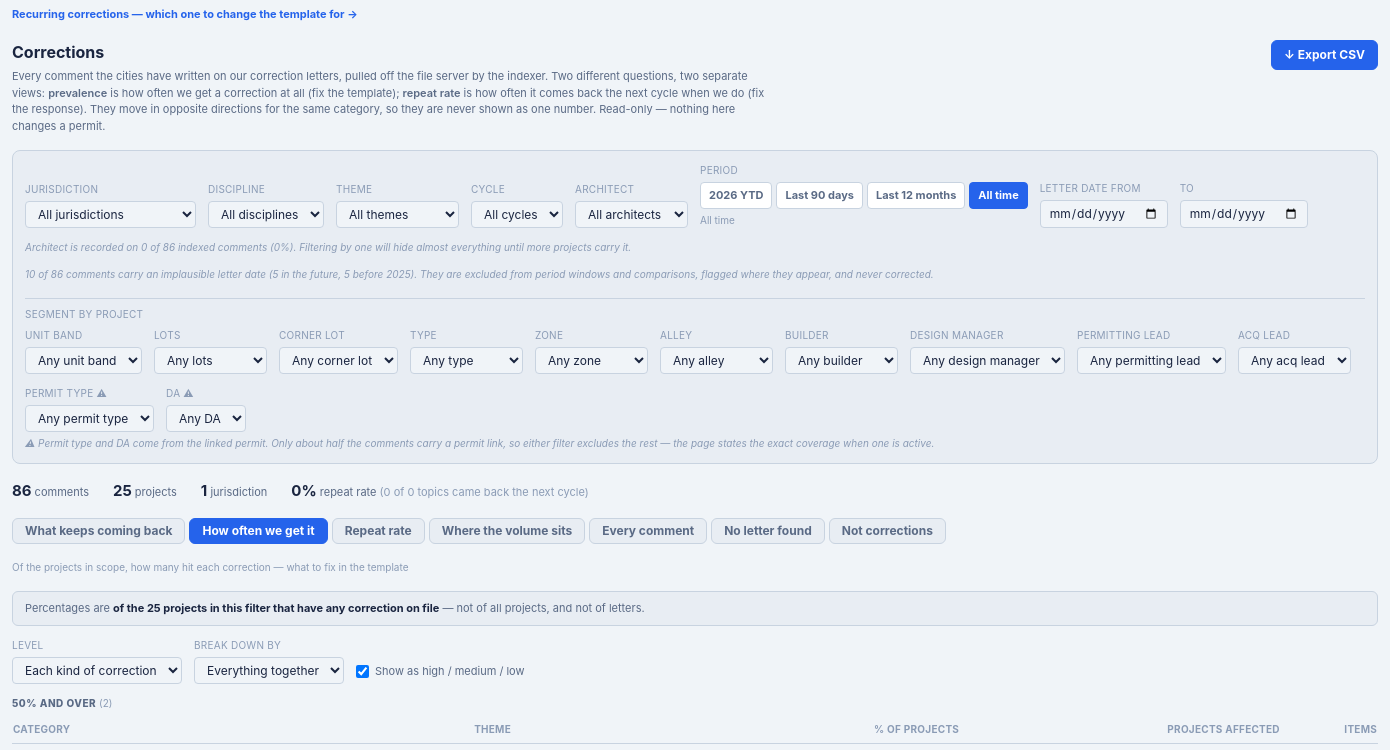
Test case: fix-281 period presets › selecting 2026 YTD narrows to this year and names the window
Click the button with test id "corrections-period-ytd2026".
click(736, 195)  # box [700,182,772,208]
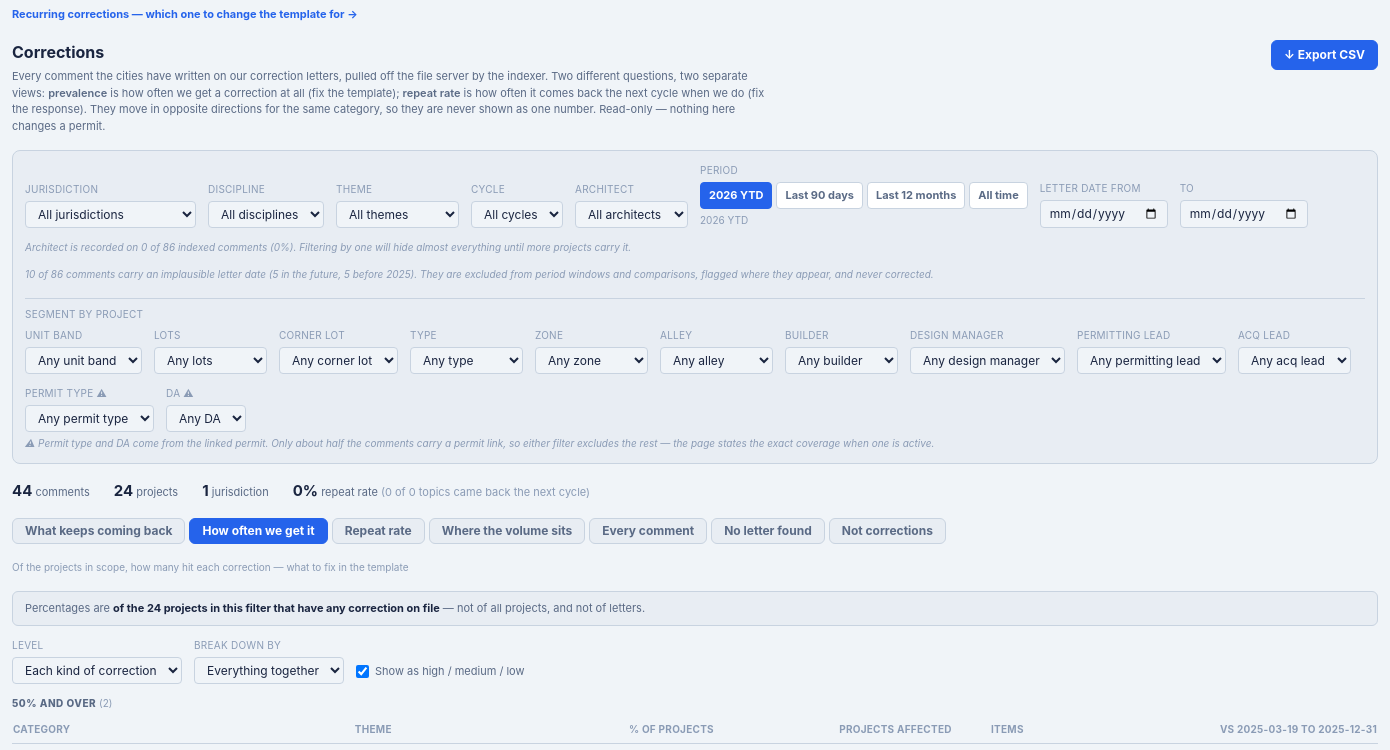
Check: the element with test id "corrections-stat-items" does not show "0 comments", box [12,480,90,502]
Check: the text with test id "corrections-period-label" shows "YTD", box [700,214,748,226]
